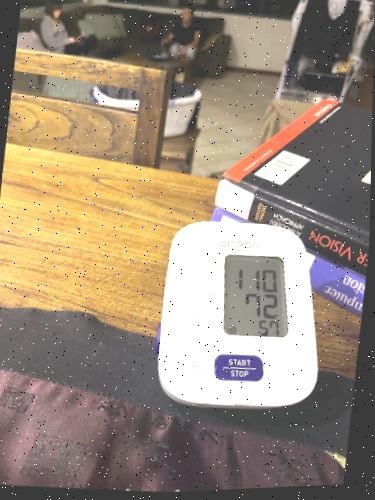bpm: (222, 253, 289, 339)
